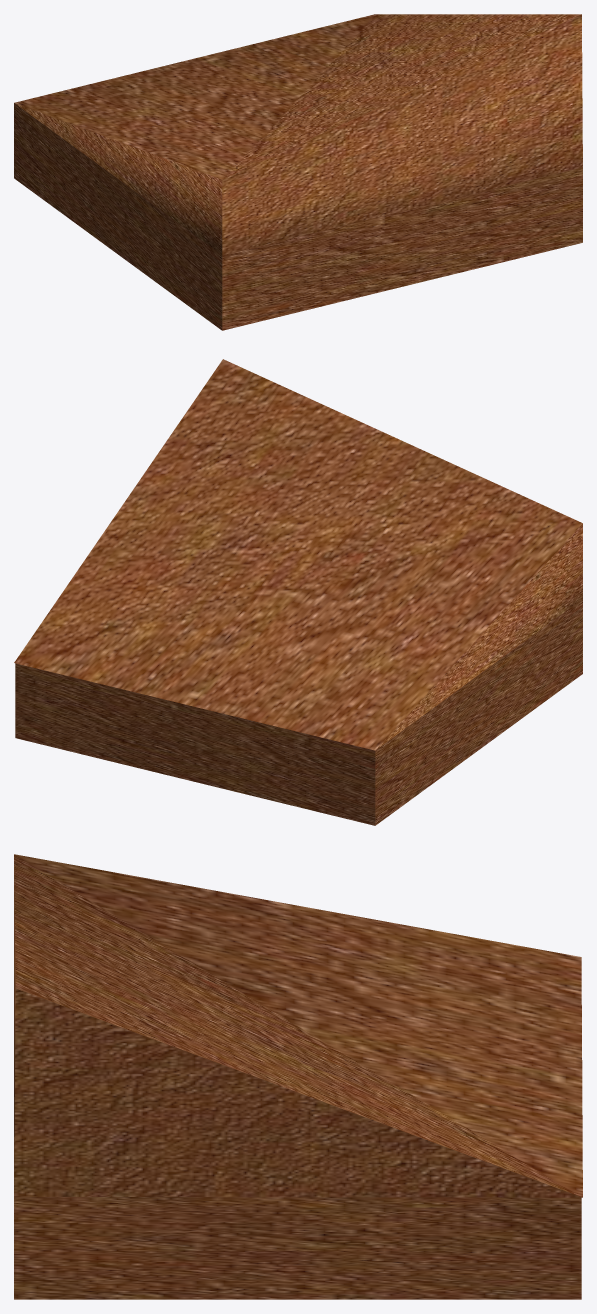
The model's file is Map0021.fbx.
The picture shows the model from 3 angles, top to bottom: view 1: azimuth 30°, elevation 25°; view 2: azimuth 150°, elevation 25°; view 3: azimuth 270°, elevation 25°; orthographic projection. The views are drawn at different scales.
Parts seen in each view (by area): view 1: Map0021, Map0000; view 2: Map0021, Map0000; view 3: Map0021, Map0000.
Part boxes in pixels (<box>): Map0021: <box>14,14,582,255</box>; Map0000: <box>14,103,582,330</box>; Map0021: <box>14,359,582,750</box>; Map0000: <box>15,599,582,825</box>; Map0021: <box>14,854,582,1197</box>; Map0000: <box>14,1197,581,1299</box>.
Size of the model in its own units: 201 by 121 by 201.
Materials: 2 (2 with a texture image).
